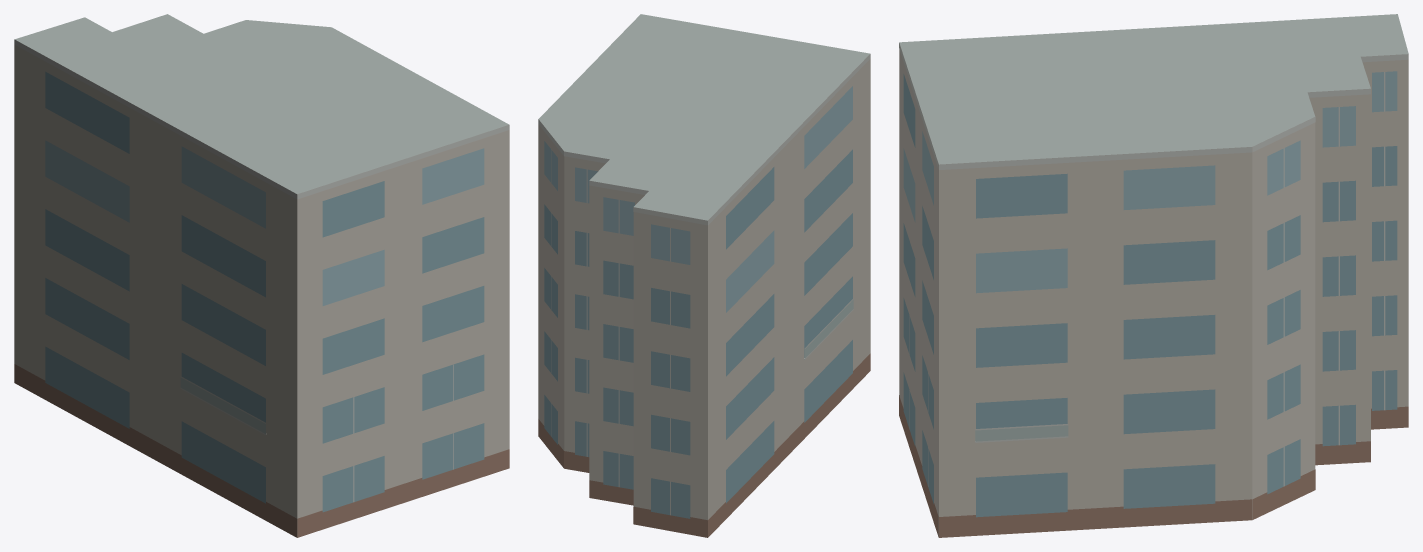
The model's file is survey-upis-32526512.glb.
The picture shows the model from 3 angles, left to right: view 1: azimuth 30°, elevation 25°; view 2: azimuth 150°, elevation 25°; view 3: azimuth 270°, elevation 25°; orthographic projection. The views are drawn at different scales.
Visible parts, largest first — view 1: survey-upis-32526512.tmp; view 2: survey-upis-32526512.tmp; view 3: survey-upis-32526512.tmp.
Boxes of the visible parts, x1,y1,x2,y2 form: survey-upis-32526512.tmp: (14,14,509,537); survey-upis-32526512.tmp: (538,14,870,537); survey-upis-32526512.tmp: (899,14,1408,537).
Bounding box in the file's own units: 13.93 × 16.1 × 19.93.
